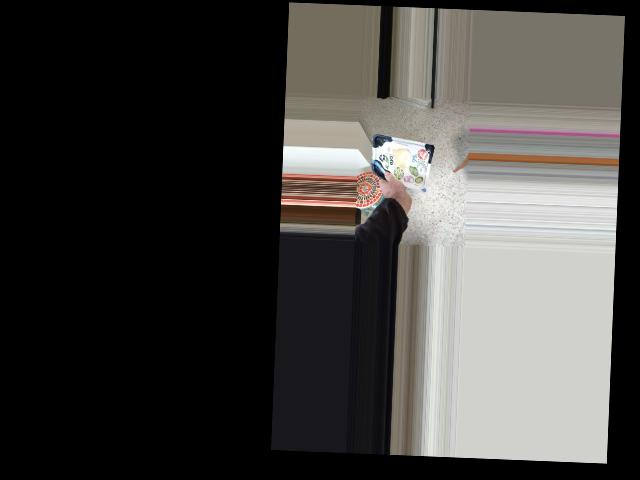cheese: (381, 150, 432, 201)
